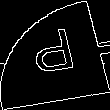P_S: (28, 27, 82, 83)
